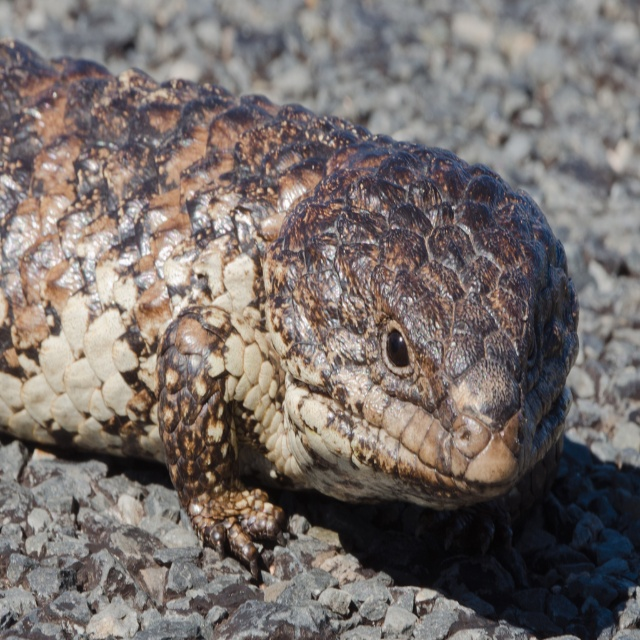Lizard: (0, 36, 580, 580)
